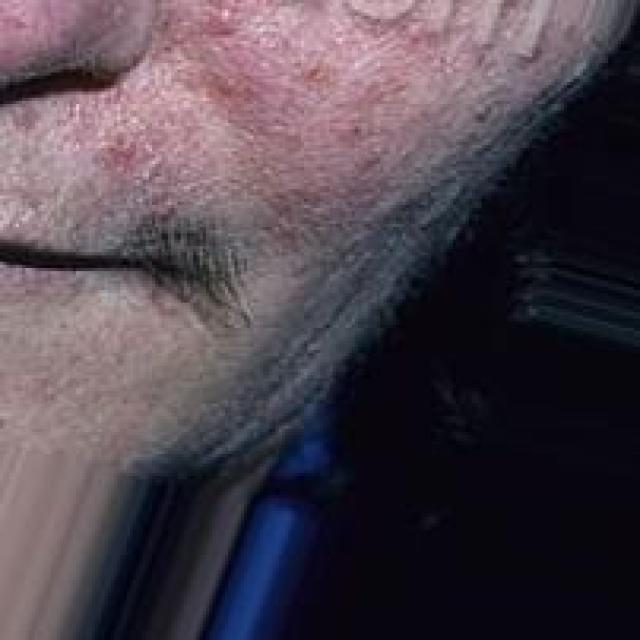Rosacea: (99, 0, 469, 258), (0, 0, 82, 63)
